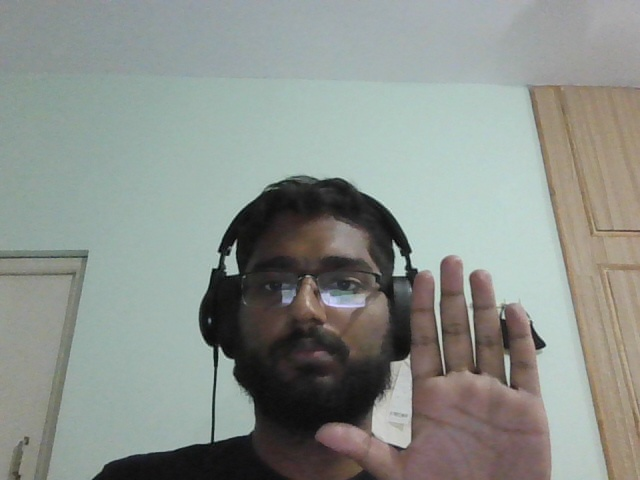Hello: (289, 256, 593, 480)
